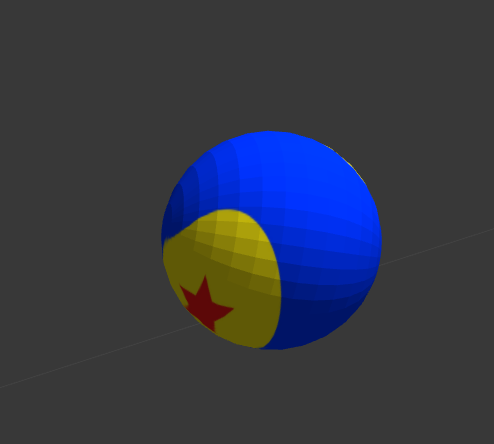toy story ball: (163, 130, 384, 347)
